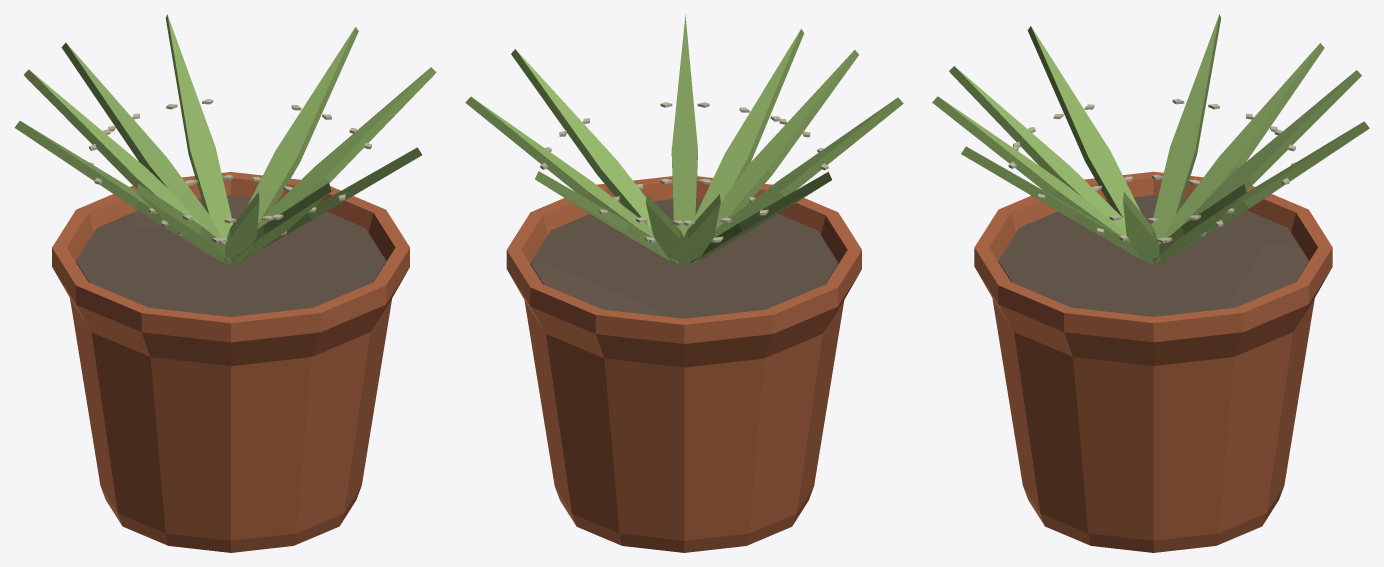
File: yucca.glb
The picture shows the model from 3 angles, left to right: view 1: azimuth 30°, elevation 25°; view 2: azimuth 150°, elevation 25°; view 3: azimuth 270°, elevation 25°; orthographic projection.
Visible parts, largest first — view 1: yucca/review-terra-vessel, yucca/review-rooted-soil, yucca/leaf-026, yucca/leaf-011, yucca/leaf-001, yucca/leaf-036, yucca/leaf-041, yucca/leaf-016, yucca/leaf-031, yucca/leaf-021, yucca/leaf-046, yucca/leaf-006; view 2: yucca/review-terra-vessel, yucca/review-rooted-soil, yucca/leaf-006, yucca/leaf-036, yucca/leaf-021, yucca/leaf-046, yucca/leaf-011, yucca/leaf-031, yucca/leaf-016, yucca/leaf-026, yucca/leaf-001, yucca/leaf-041; view 3: yucca/review-terra-vessel, yucca/review-rooted-soil, yucca/leaf-016, yucca/leaf-031, yucca/leaf-041, yucca/leaf-006, yucca/leaf-001, yucca/leaf-046, yucca/leaf-026, yucca/leaf-021, yucca/leaf-011, yucca/leaf-036.
Part boxes in pixels (x1=…): yucca/review-terra-vessel: x1=52, y1=172, x2=409, y2=552; yucca/review-rooted-soil: x1=76, y1=195, x2=386, y2=316; yucca/leaf-026: x1=165, y1=14, x2=232, y2=243; yucca/leaf-011: x1=247, y1=27, x2=358, y2=222; yucca/leaf-001: x1=61, y1=42, x2=224, y2=244; yucca/leaf-036: x1=257, y1=67, x2=436, y2=229; yucca/leaf-041: x1=24, y1=69, x2=207, y2=230; yucca/leaf-016: x1=14, y1=121, x2=210, y2=255; yucca/leaf-031: x1=136, y1=184, x2=231, y2=263; yucca/leaf-021: x1=237, y1=147, x2=421, y2=262; yucca/leaf-046: x1=231, y1=183, x2=331, y2=263; yucca/leaf-006: x1=223, y1=192, x2=259, y2=263; yucca/review-terra-vessel: x1=506, y1=176, x2=861, y2=552; yucca/review-rooted-soil: x1=530, y1=199, x2=838, y2=318; yucca/leaf-006: x1=715, y1=50, x2=858, y2=229; yucca/leaf-036: x1=511, y1=49, x2=651, y2=227; yucca/leaf-021: x1=671, y1=14, x2=697, y2=236; yucca/leaf-046: x1=694, y1=29, x2=804, y2=221; yucca/leaf-011: x1=465, y1=96, x2=653, y2=237; yucca/leaf-031: x1=714, y1=97, x2=903, y2=237; yucca/leaf-016: x1=687, y1=172, x2=831, y2=265; yucca/leaf-026: x1=535, y1=171, x2=680, y2=265; yucca/leaf-001: x1=645, y1=194, x2=690, y2=266; yucca/leaf-041: x1=678, y1=194, x2=720, y2=266; yucca/review-terra-vessel: x1=974, y1=171, x2=1332, y2=552; yucca/review-rooted-soil: x1=998, y1=195, x2=1308, y2=316; yucca/leaf-016: x1=1151, y1=14, x2=1221, y2=244; yucca/leaf-031: x1=1027, y1=26, x2=1140, y2=219; yucca/leaf-041: x1=1159, y1=43, x2=1324, y2=244; yucca/leaf-006: x1=949, y1=66, x2=1125, y2=232; yucca/leaf-001: x1=1182, y1=70, x2=1361, y2=225; yucca/leaf-046: x1=932, y1=96, x2=1135, y2=256; yucca/leaf-026: x1=1174, y1=121, x2=1369, y2=255; yucca/leaf-021: x1=961, y1=146, x2=1147, y2=262; yucca/leaf-011: x1=1153, y1=184, x2=1246, y2=263; yucca/leaf-036: x1=1123, y1=192, x2=1160, y2=263.
Size of the model in its own units: 0.3248 by 0.3317 by 0.3299.
Materials: 4 (4 with a texture image).
